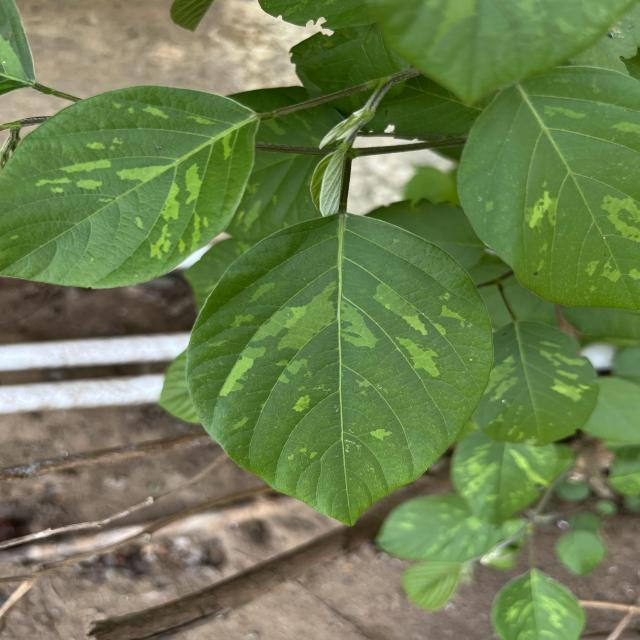Desmodium gangeticum: (181, 210, 499, 532), (2, 81, 266, 294)
